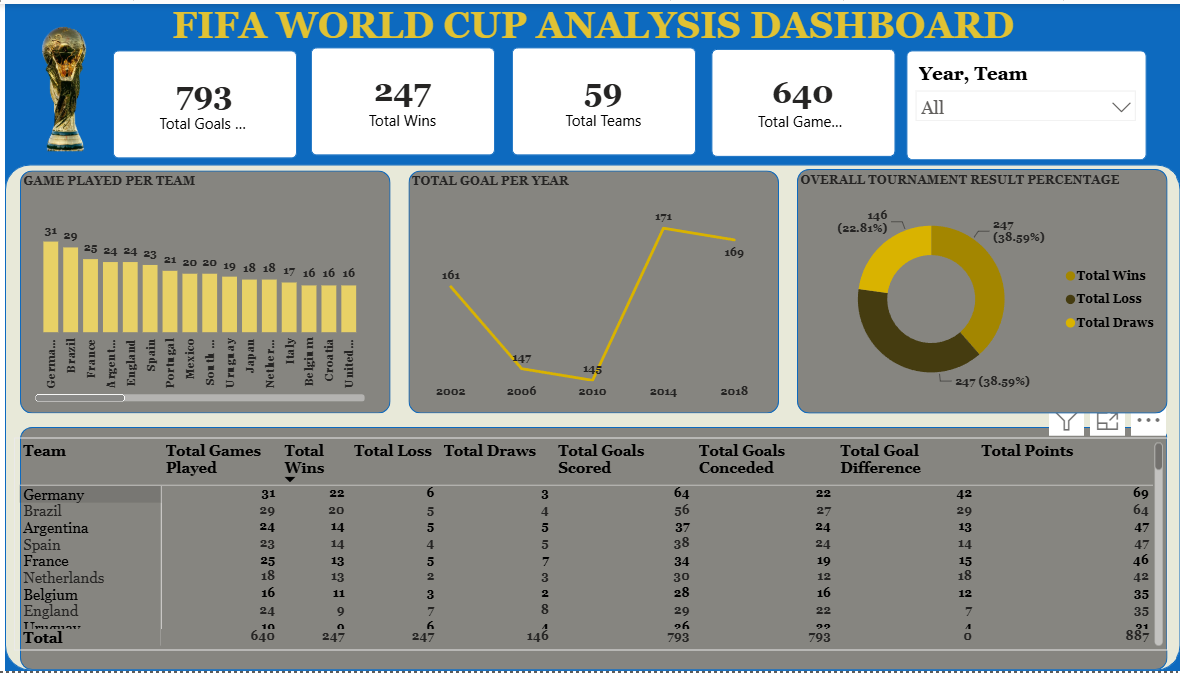

The dashboard page shown, as its layout file describes it:
{"tool":"powerbi","page":{"name":"Page 1","canvas":[1280,720],"ordinal":0},"visuals":[{"type":"shape","title":"FIFA ANALYSIS DASHBOARD","box":[9.4,0,1269.9,720],"z":0},{"type":"group","id":"g1","title":"Group 2","box":[126.3,47,845.2,119.8],"z":0,"group":"g2"},{"type":"shape","box":[9.4,173.9,1269.9,546.1],"z":1000},{"type":"shape","box":[25.9,179.7,399.9,262.3],"z":2000},{"type":"shape","box":[445.3,179.7,399.9,262.3],"z":3000},{"type":"shape","box":[25.9,456.6,1238.7,262.3],"z":4000},{"type":"group","id":"g2","title":"Group 4","box":[126.3,47,845.2,119.8],"z":5000},{"type":"clusteredColumnChart","fields":{"Y":["Sum(Fact_Tournament_Performance.Games Played)"],"Category":["Fact_Tournament_Performance.Team"]},"box":[37.2,213.7,365.9,220.2],"z":6000},{"type":"lineChart","fields":{"Y":["Sum(Fact_Tournament_Performance.Goals For)"],"Category":["Fact_Tournament_Performance.Year"]},"box":[455,202.4,377.3,231.5],"z":7000},{"type":"shape","box":[557.5,47,198.5,116.4],"z":7001,"group":"g6"},{"type":"shape","box":[340.3,47.2,198.5,116.4],"z":7001,"group":"g5"},{"type":"shape","box":[773.1,49.2,198.5,116.4],"z":7001,"group":"g8"},{"type":"shape","box":[983,49.9,259.1,118.2],"z":7001,"group":"g4"},{"type":"shape","box":[126.3,50.4,198.5,116.4],"z":7001,"group":"g3"},{"type":"cardVisual","fields":{"Data":["Measures Library.Total Teams"]},"box":[577.8,47,155,116.4],"z":7014,"group":"g6"},{"type":"cardVisual","fields":{"Data":["Measures Library.Total Wins"]},"box":[360.6,47.2,155,116.4],"z":7014,"group":"g5"},{"type":"cardVisual","fields":{"Data":["Measures Library.Total Games Played"]},"box":[793.4,49.2,155,116.4],"z":7014,"group":"g8"},{"type":"cardVisual","fields":{"Data":["Measures Library.Total Goals Scored"]},"box":[146.6,50.4,155,116.4],"z":7014,"group":"g3"},{"type":"group","id":"g3","title":"Group 1","box":[126.3,50.4,198.5,116.4],"z":8000,"group":"g1"},{"type":"pivotTable","fields":{"Rows":["Dim_Team.Team"],"Values":["Measures Library.Total Games Played","Measures Library.Total Wins","Measures Library.Total Loss","Measures Library.Total Draws","Measures Library.Total Goals Scored","Measures Library.Total Goals Conceded","Measures Library.Total Goal Difference","Measures Library.Total Points"]},"box":[19.4,468,1245.2,229.9],"z":8000},{"type":"image","box":[0,13,147.3,149],"z":9000},{"type":"group","id":"g4","title":"Group 1","box":[983,49.9,259.1,118.2],"z":9000,"group":"g7"},{"type":"group","id":"g5","title":"Group 1","box":[340.3,47.2,198.5,116.4],"z":10000,"group":"g1"},{"type":"shape","box":[864.7,178.1,399.9,263.9],"z":10000},{"type":"group","id":"g6","title":"Group 1","box":[557.5,47,198.5,116.4],"z":11000,"group":"g1"},{"type":"group","id":"g7","title":"Group 3","box":[983,49.9,259.1,118.2],"z":11000},{"type":"group","id":"g8","title":"Group 1","box":[773.1,49.2,198.5,116.4],"z":12000,"group":"g1"},{"type":"donutChart","fields":{"Y":["Measures Library.Total Wins","Measures Library.Total Loss","Measures Library.Total Draws"]},"box":[859.8,202.4,404.8,231.5],"z":12000},{"type":"slicer","fields":{"Values":["Fact_Tournament_Performance.Year","Fact_Tournament_Performance.Team"]},"box":[983,58.2,257.5,108.5],"z":14000,"group":"g7"}]}

Visuals, with their boxes in screenshot pixels (x1, y1, x2, y2), scaled from the page's 1280x720 canvas onto the 1180x673 screenshot:
"FIFA ANALYSIS DASHBOARD" shape: detection(9, 0, 1179, 672)
"Group 2" group: detection(116, 44, 896, 156)
shape: detection(9, 163, 1179, 672)
shape: detection(24, 168, 393, 413)
shape: detection(411, 168, 779, 413)
shape: detection(24, 427, 1166, 672)
"Group 4" group: detection(116, 44, 896, 156)
clusteredColumnChart - Sum(Fact_Tournament_Performance.Games Played) x Fact_Tournament_Performance.Team: detection(34, 200, 372, 406)
lineChart - Sum(Fact_Tournament_Performance.Goals For) x Fact_Tournament_Performance.Year: detection(419, 189, 767, 406)
shape: detection(514, 44, 697, 153)
shape: detection(314, 44, 497, 153)
shape: detection(713, 46, 896, 155)
shape: detection(906, 47, 1145, 157)
shape: detection(116, 47, 299, 156)
cardVisual - Measures Library.Total Teams: detection(533, 44, 676, 153)
cardVisual - Measures Library.Total Wins: detection(332, 44, 475, 153)
cardVisual - Measures Library.Total Games Played: detection(731, 46, 874, 155)
cardVisual - Measures Library.Total Goals Scored: detection(135, 47, 278, 156)
"Group 1" group: detection(116, 47, 299, 156)
pivotTable - Dim_Team.Team x Measures Library.Total Games Played: detection(18, 437, 1166, 652)
image: detection(0, 12, 136, 151)
"Group 1" group: detection(906, 47, 1145, 157)
"Group 1" group: detection(314, 44, 497, 153)
shape: detection(797, 166, 1166, 413)
"Group 1" group: detection(514, 44, 697, 153)
"Group 3" group: detection(906, 47, 1145, 157)
"Group 1" group: detection(713, 46, 896, 155)
donutChart - Measures Library.Total Wins x Measures Library.Total Loss: detection(793, 189, 1166, 406)
slicer - Fact_Tournament_Performance.Year x Fact_Tournament_Performance.Team: detection(906, 54, 1144, 156)
